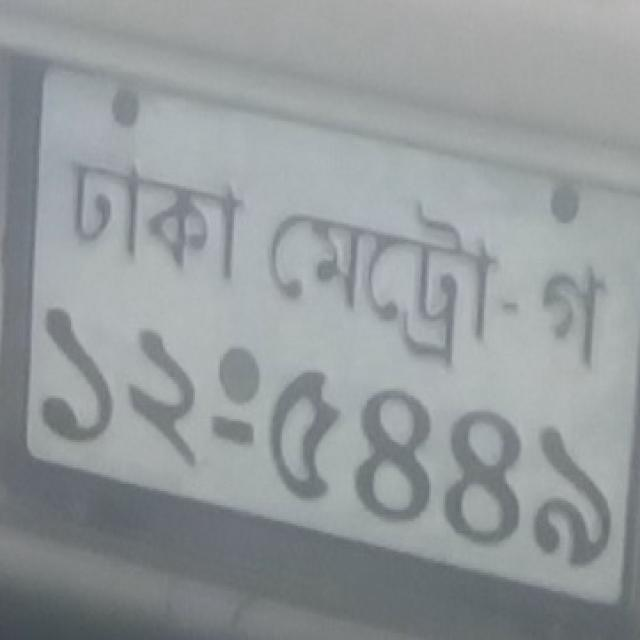cng: (267, 205, 498, 367)
numberplate: (2, 47, 638, 632)
